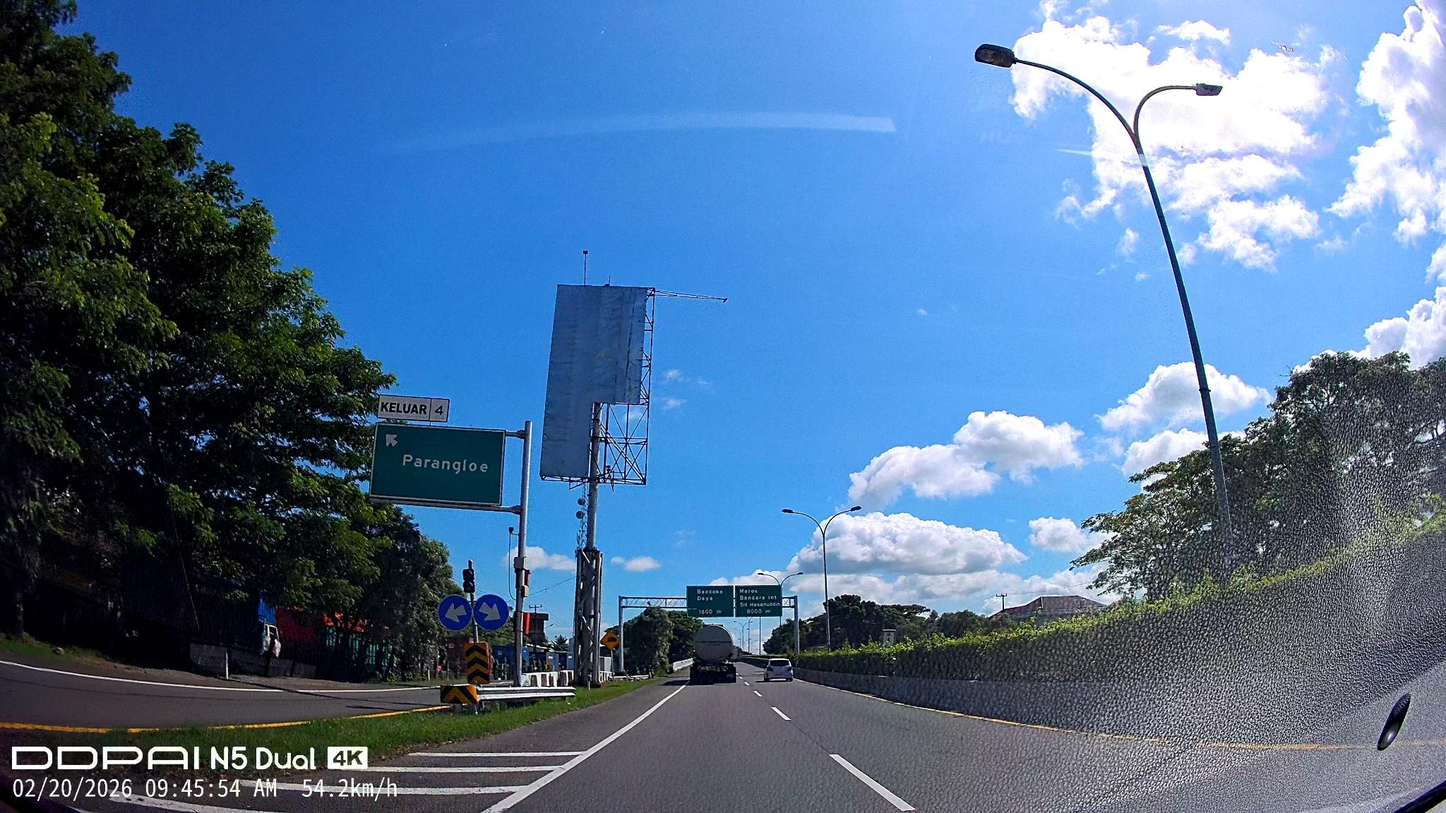rambu_teks: (368, 420, 506, 508)
